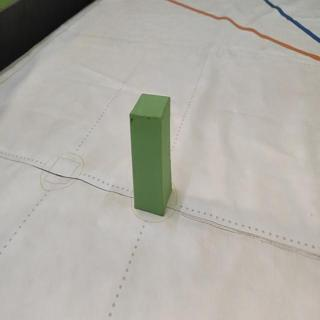greenbox: (128, 94, 173, 215)
